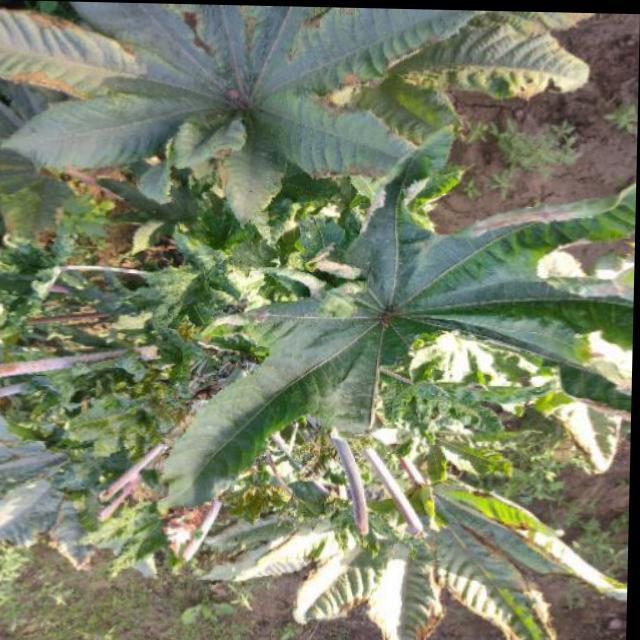crop: (9, 24, 619, 599)
